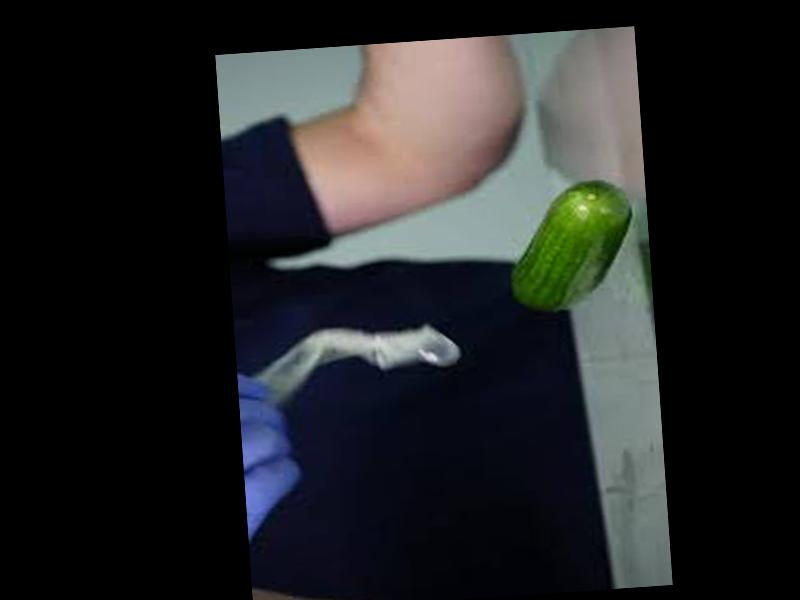Cucumber: (505, 177, 638, 312)
